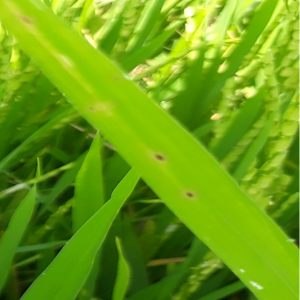Brown_Spot: (16, 9, 36, 29), (150, 149, 168, 163), (182, 187, 198, 201), (111, 72, 121, 85), (86, 104, 97, 114)
